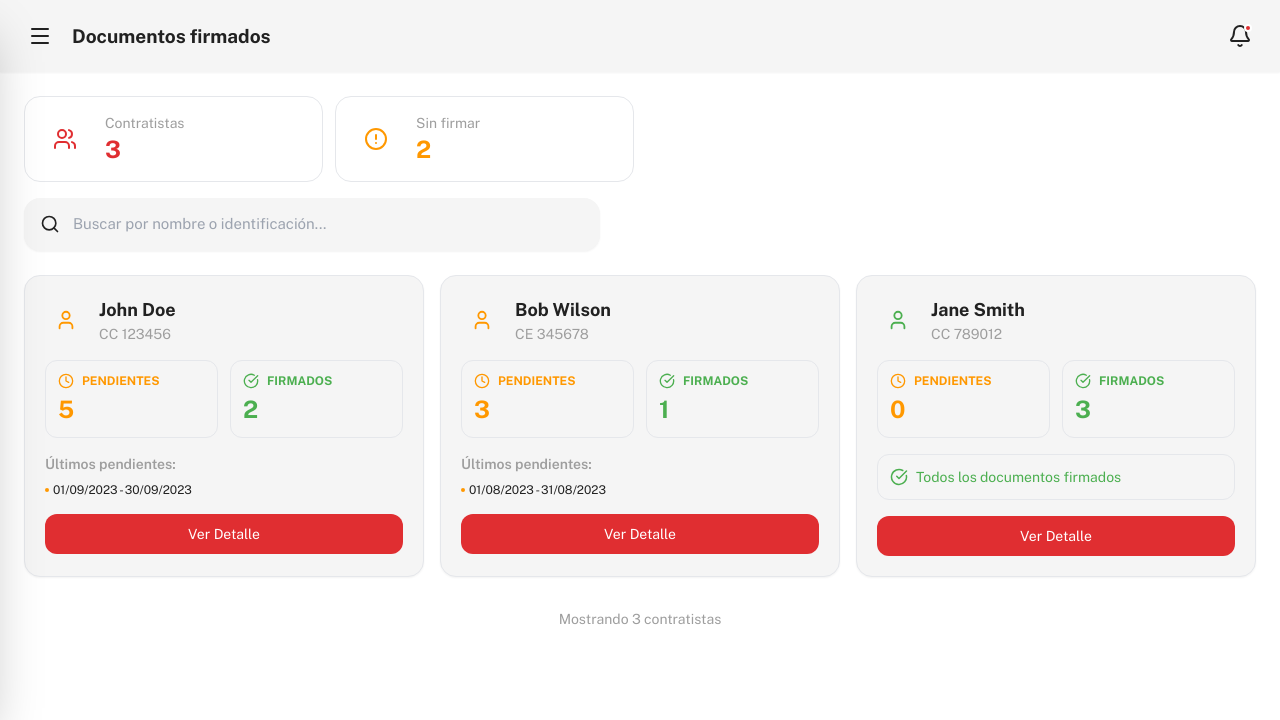
Scenario: ContractorSigningDashboard Page › clears search when clear button is clicked
Type "John" into the field with placeholder "Buscar por nombre o identificación..." at (312, 224), box top-left (24, 198), bottom-right (600, 250)
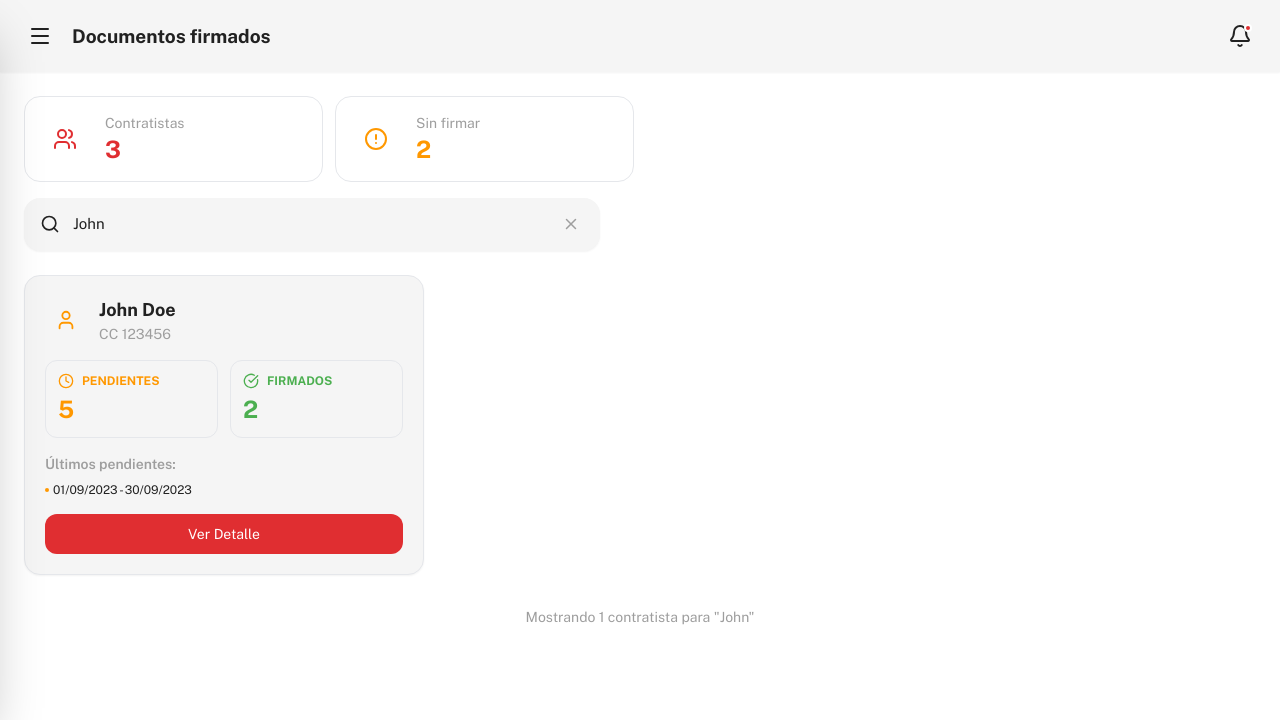
Click the button named "Limpiar búsqueda" at (571, 224), box top-left (558, 211), bottom-right (584, 237)
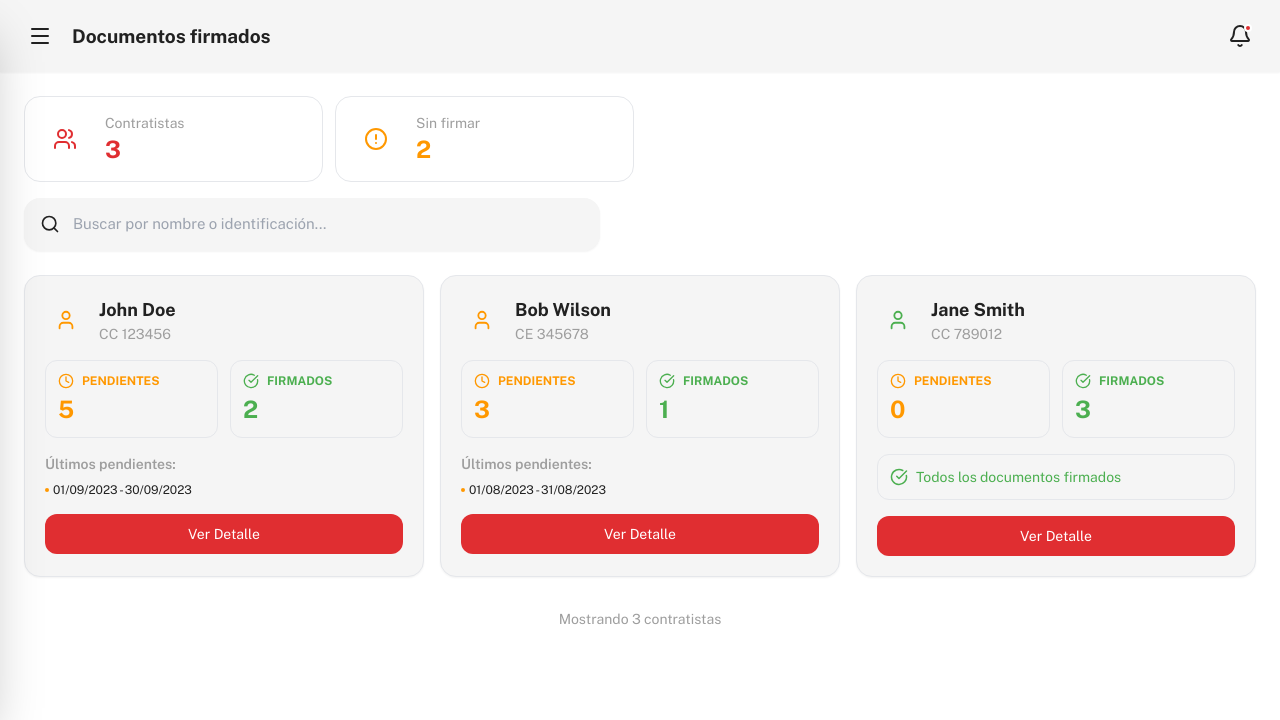
Expected: the heading "John Doe" is shown, top-left (99, 298), bottom-right (176, 320)
Now the field with placeholder "Buscar por nombre o identificación..." is empty, box top-left (24, 198), bottom-right (600, 250)
Now the heading "Jane Smith" is shown, box top-left (931, 298), bottom-right (1025, 320)
